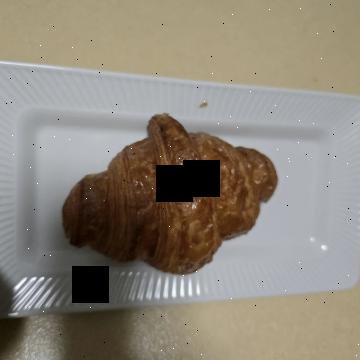croissant: (101, 72, 284, 309)
